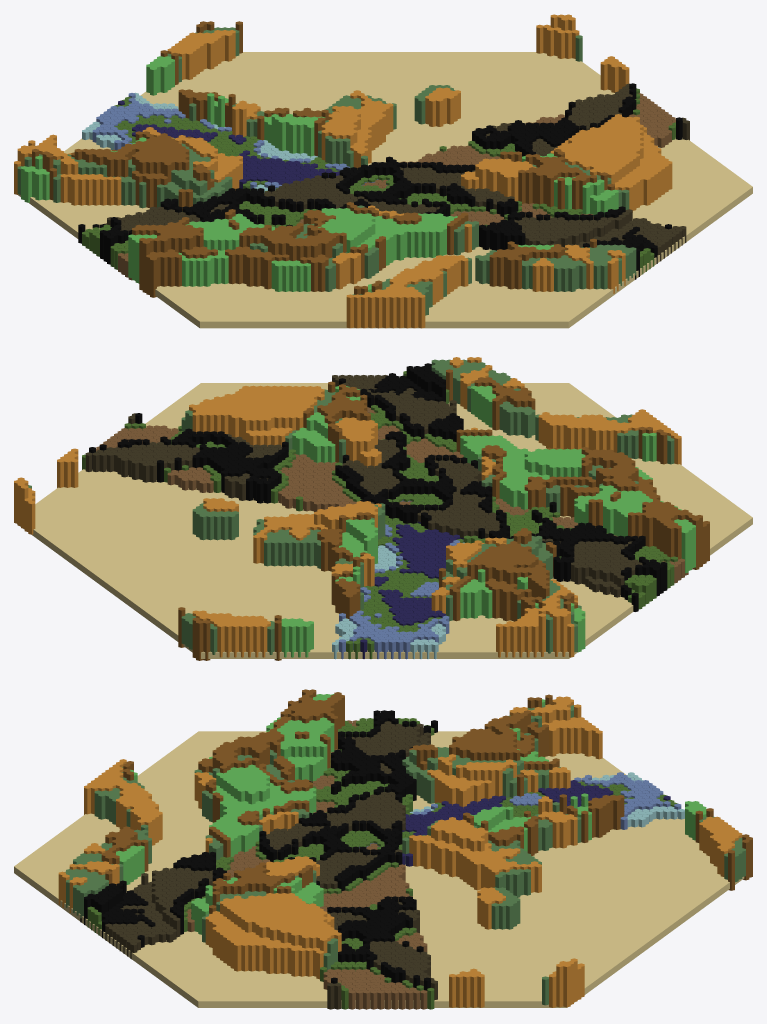
The model's file is 0045_tile_1210211.fbx.
3 renders of one model, top to bottom at view 1: azimuth 30°, elevation 25°; view 2: azimuth 150°, elevation 25°; view 3: azimuth 270°, elevation 25°, orthographic.
Visible parts, largest first — view 1: Plane; view 2: Plane; view 3: Plane.
Part boxes in pixels (box(x1,y1,x2,y2)): Plane: box(14, 14, 752, 328); Plane: box(14, 357, 752, 660); Plane: box(14, 689, 752, 1009).
Bounding box in the file's own units: 1008 × 84.74 × 1152.
